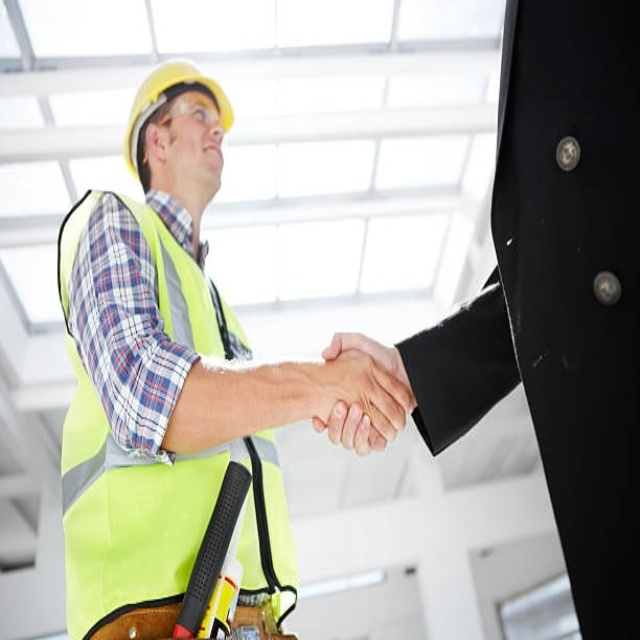Gafas: (155, 99, 224, 130)
Sin_guantes: (310, 332, 415, 456)
Sin_mascara: (191, 135, 229, 169)
